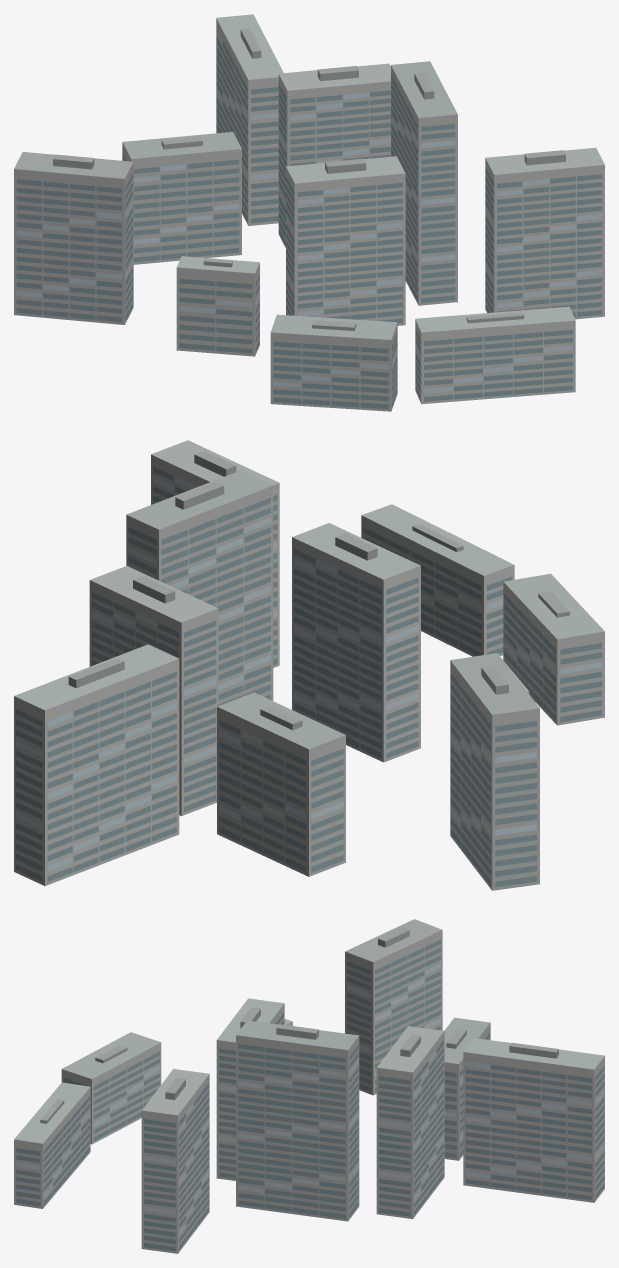
Rendered from apt-a15704023.glb.
3 renders of one model, top to bottom at view 1: azimuth 30°, elevation 25°; view 2: azimuth 150°, elevation 25°; view 3: azimuth 270°, elevation 25°, orthographic. The views are drawn at different scales.
Parts seen in each view (by area): view 1: apt-a15704023; view 2: apt-a15704023; view 3: apt-a15704023.
Boxes of the visible parts, bbox=[...] form: apt-a15704023: bbox=[14, 14, 604, 411]; apt-a15704023: bbox=[14, 440, 604, 890]; apt-a15704023: bbox=[14, 919, 604, 1253].
Bounding box in the file's own units: 158 × 65 × 196.
